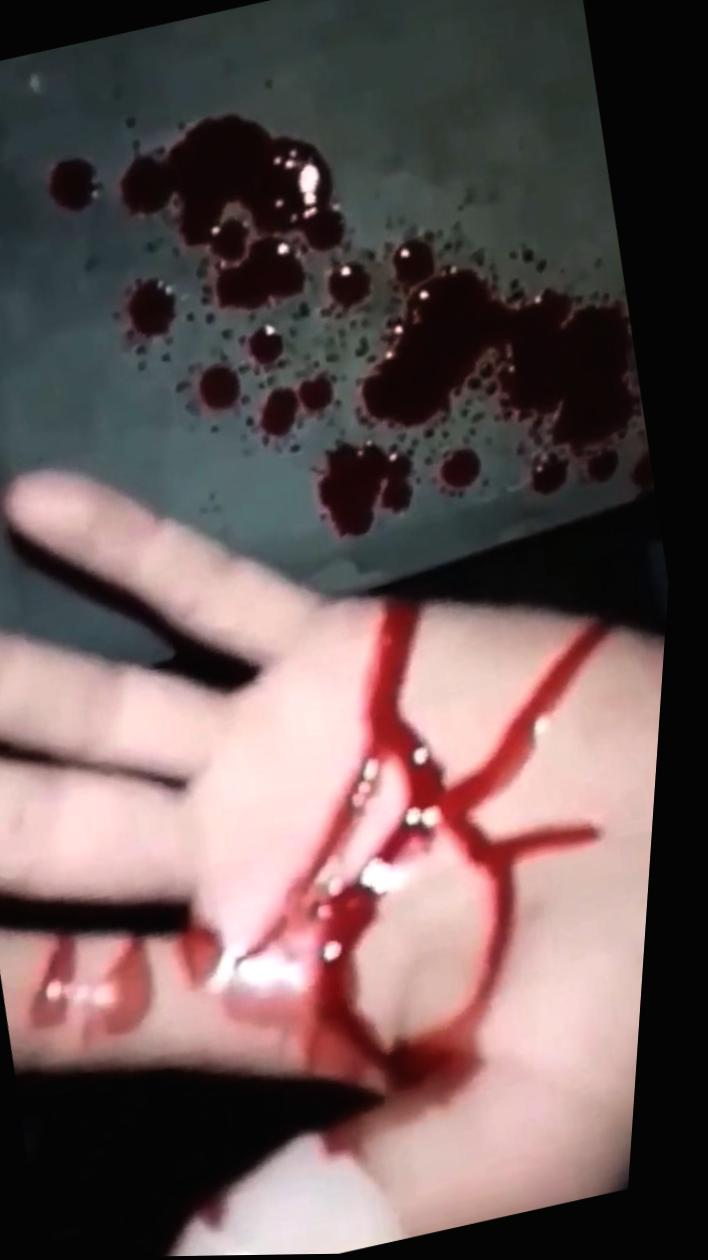Fire: (120, 112, 661, 538), (186, 601, 619, 1117), (45, 928, 167, 1039), (52, 156, 100, 208)
